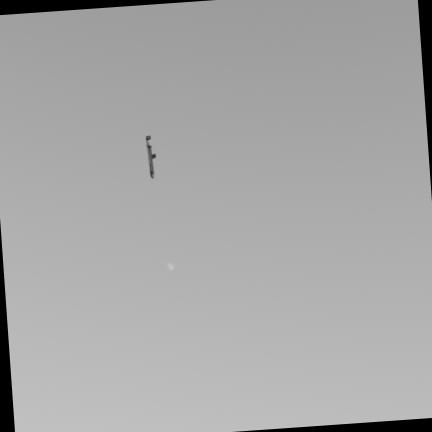Shahed: (146, 136, 156, 177)
